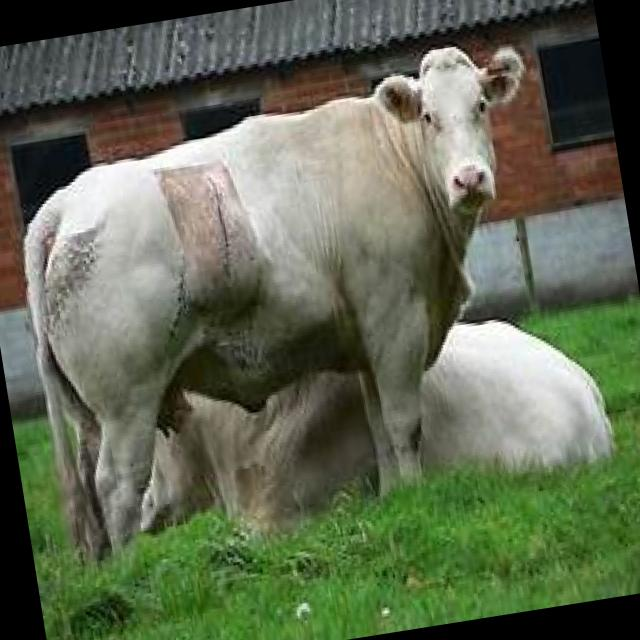animal: (0, 30, 594, 571), (82, 290, 624, 568)
